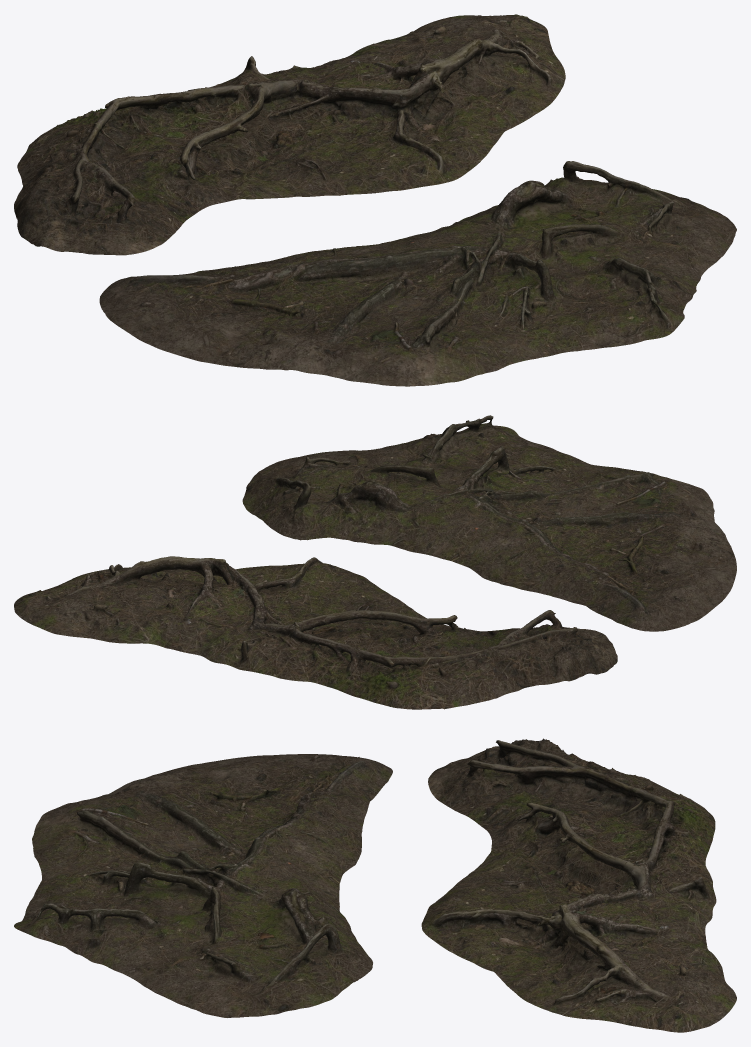
File: pine_roots_4k.gltf
3 views of the same model, one above another, from view 1: azimuth 30°, elevation 25°; view 2: azimuth 150°, elevation 25°; view 3: azimuth 270°, elevation 25° (orthographic). The views are drawn at different scales.
Parts seen in each view (by area): view 1: pine_roots_b, pine_roots_a; view 2: pine_roots_b, pine_roots_a; view 3: pine_roots_b, pine_roots_a.
Part boxes in pixels (x1,y1,x2,y2): pine_roots_b: (99, 161, 736, 386); pine_roots_a: (14, 14, 565, 255); pine_roots_b: (242, 415, 736, 631); pine_roots_a: (14, 556, 617, 709); pine_roots_b: (14, 754, 392, 1017); pine_roots_a: (421, 738, 736, 1032).
Bounding box in the file's own units: 1.77 × 0.1548 × 1.89.
Materials: 2 (2 with a texture image).
